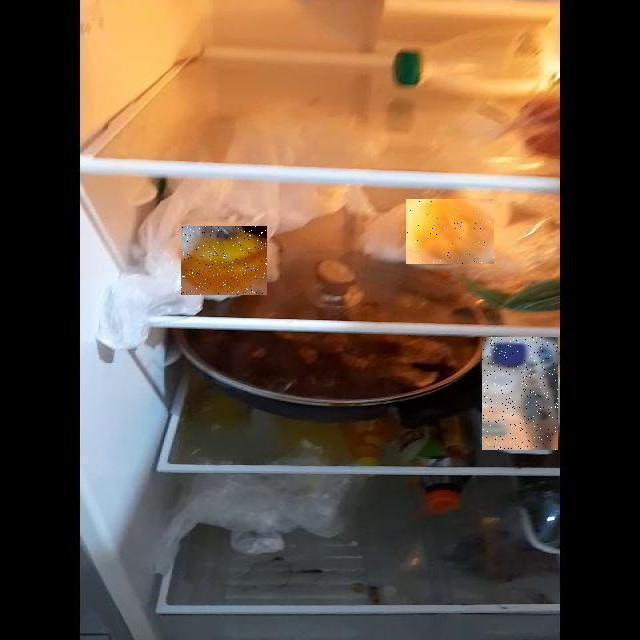milk: (203, 225, 640, 640)
